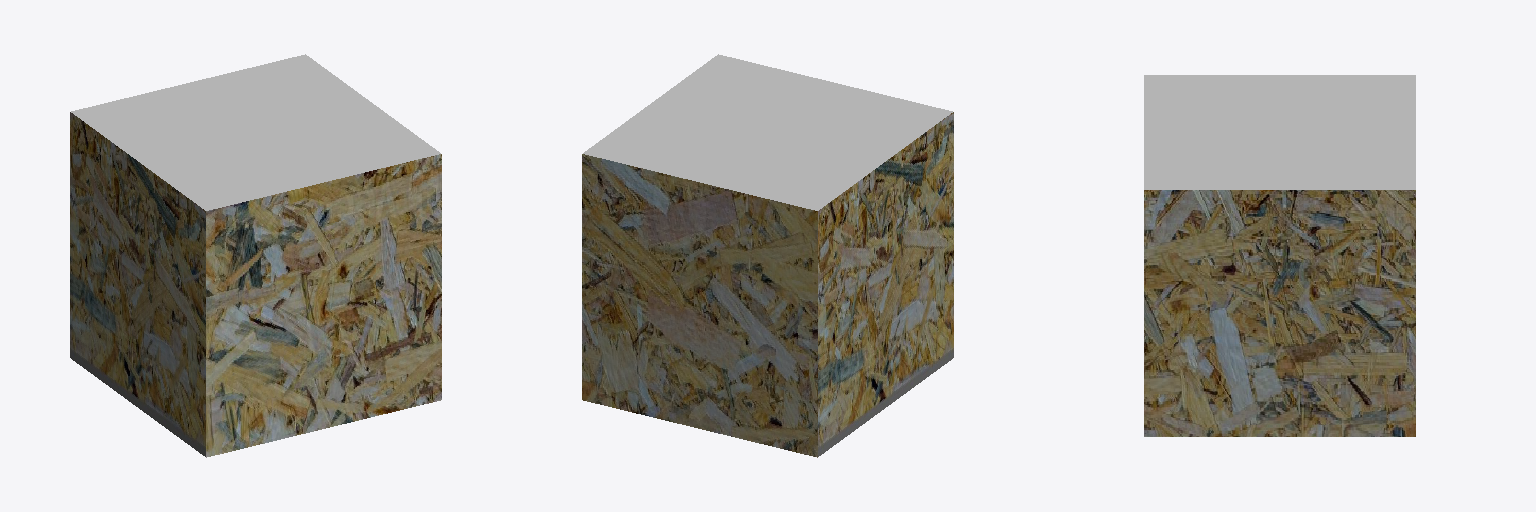
The picture shows the model from 3 angles: view 1: azimuth 30°, elevation 25°; view 2: azimuth 150°, elevation 25°; view 3: azimuth 270°, elevation 25°; orthographic projection.
Visible parts, largest first — view 1: Cube; view 2: Cube; view 3: Cube.
Part boxes in pixels (bbox=[...]): Cube: bbox=[70, 54, 441, 457]; Cube: bbox=[582, 54, 953, 457]; Cube: bbox=[1144, 75, 1415, 436].
Size of the model in its own units: 1 by 1 by 1.
Materials: 2 (1 with a texture image).